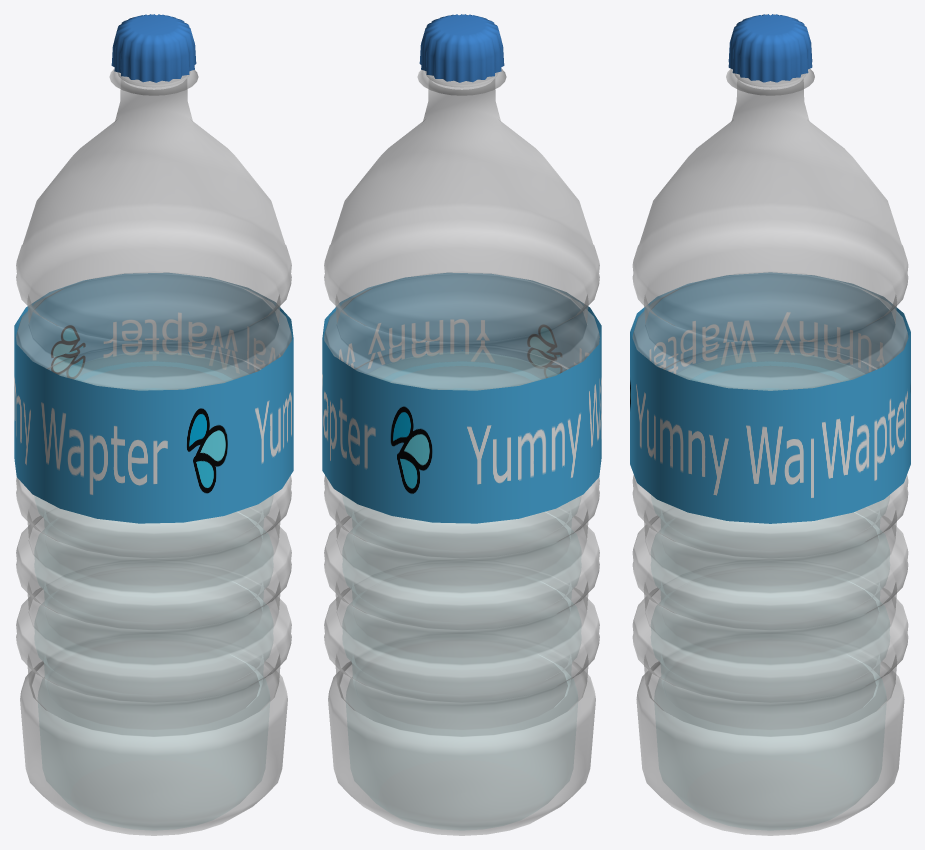
Rendered from My wampter bottle.fbx.
3 views of the same model, side by side, from view 1: azimuth 30°, elevation 25°; view 2: azimuth 150°, elevation 25°; view 3: azimuth 270°, elevation 25° (orthographic).
Visible parts, largest first — view 1: revolvedSurface1, revolvedSurface2, pTorus1, pCylinder1; view 2: revolvedSurface1, revolvedSurface2, pTorus1, pCylinder1; view 3: revolvedSurface1, revolvedSurface2, pTorus1, pCylinder1.
Part boxes in pixels (x1,y1,x2,y2): revolvedSurface1: (16, 68, 291, 835); revolvedSurface2: (34, 352, 273, 829); pTorus1: (14, 273, 293, 523); pCylinder1: (111, 14, 196, 82); revolvedSurface1: (324, 68, 599, 835); revolvedSurface2: (342, 352, 581, 829); pTorus1: (322, 273, 601, 523); pCylinder1: (419, 14, 504, 82); revolvedSurface1: (632, 69, 908, 835); revolvedSurface2: (651, 352, 889, 829); pTorus1: (630, 272, 910, 523); pCylinder1: (728, 14, 812, 82).
Bounding box in the file's own units: 3.67 × 11.12 × 3.67.
